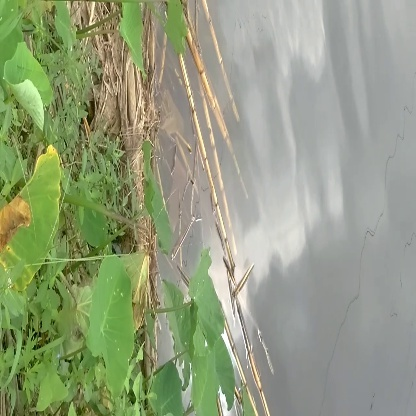branch: (179, 58, 250, 265)
